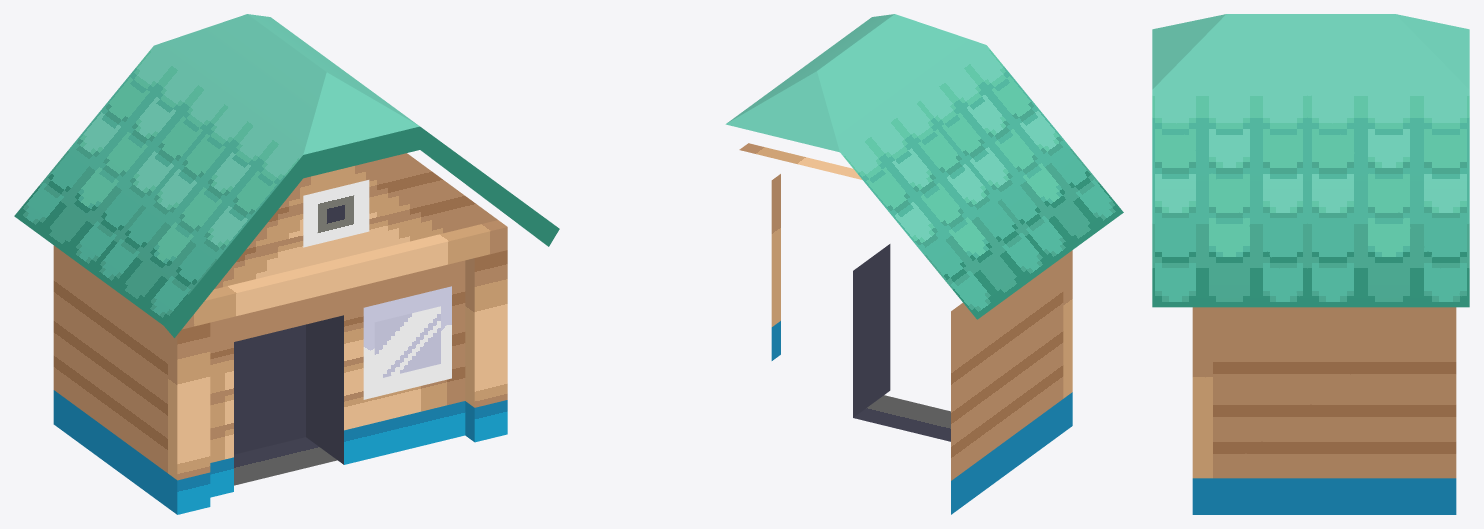
The picture shows the model from 3 angles, left to right: view 1: azimuth 30°, elevation 25°; view 2: azimuth 150°, elevation 25°; view 3: azimuth 270°, elevation 25°; orthographic projection. The views are drawn at different scales.
Parts seen in each view (by area): view 1: wk_h01; view 2: wk_h01; view 3: wk_h01.
Boxes of the visible parts, x1=… form: wk_h01: x1=14, y1=14, x2=559, y2=514; wk_h01: x1=725, y1=14, x2=1123, y2=514; wk_h01: x1=1152, y1=14, x2=1469, y2=514.
Size of the model in its own units: 4.5 by 4.24 by 2.94.
2 materials, 2 textured.
